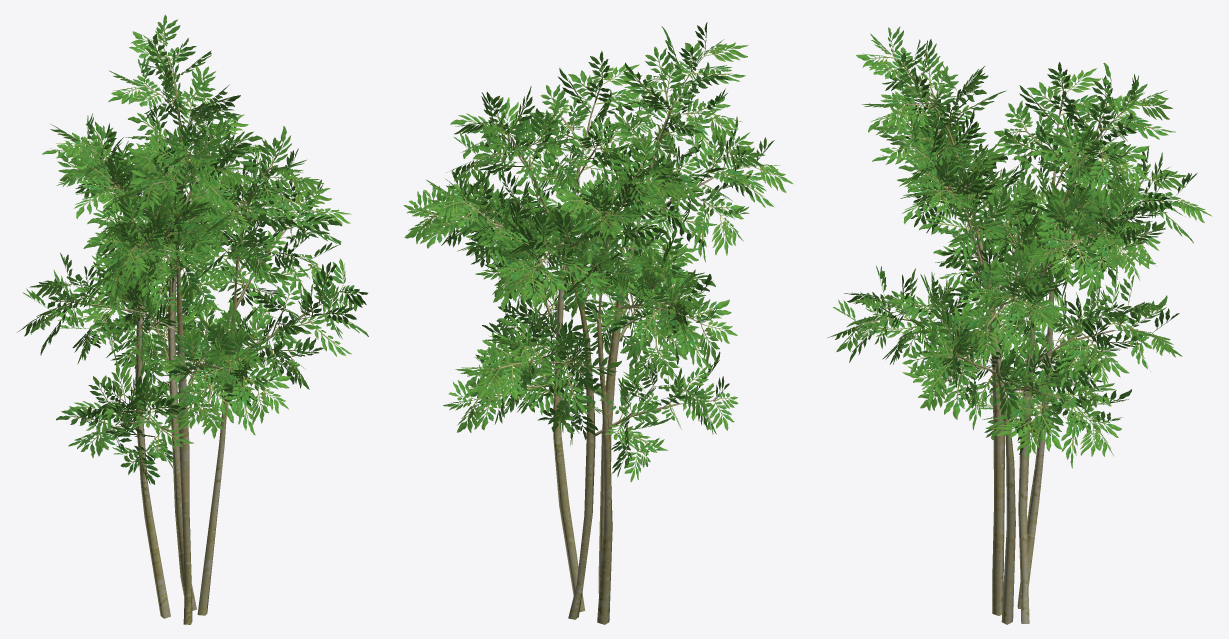
The model's file is MS_ShrubTree01a.fbx.
3 renders of one model, left to right at view 1: azimuth 30°, elevation 25°; view 2: azimuth 150°, elevation 25°; view 3: azimuth 270°, elevation 25°, orthographic. The views are drawn at different scales.
Parts seen in each view (by area): view 1: Leaves, TreeBare; view 2: Leaves, TreeBare; view 3: Leaves, TreeBare.
Part boxes in pixels (x1,y1,x2,y2): Leaves: [17, 14, 368, 484]; TreeBare: [87, 81, 311, 624]; Leaves: [403, 22, 793, 482]; TreeBare: [478, 86, 714, 624]; Leaves: [827, 26, 1212, 468]; TreeBare: [899, 86, 1135, 624].
Bounding box in the file's own units: 398 × 654 × 406.
